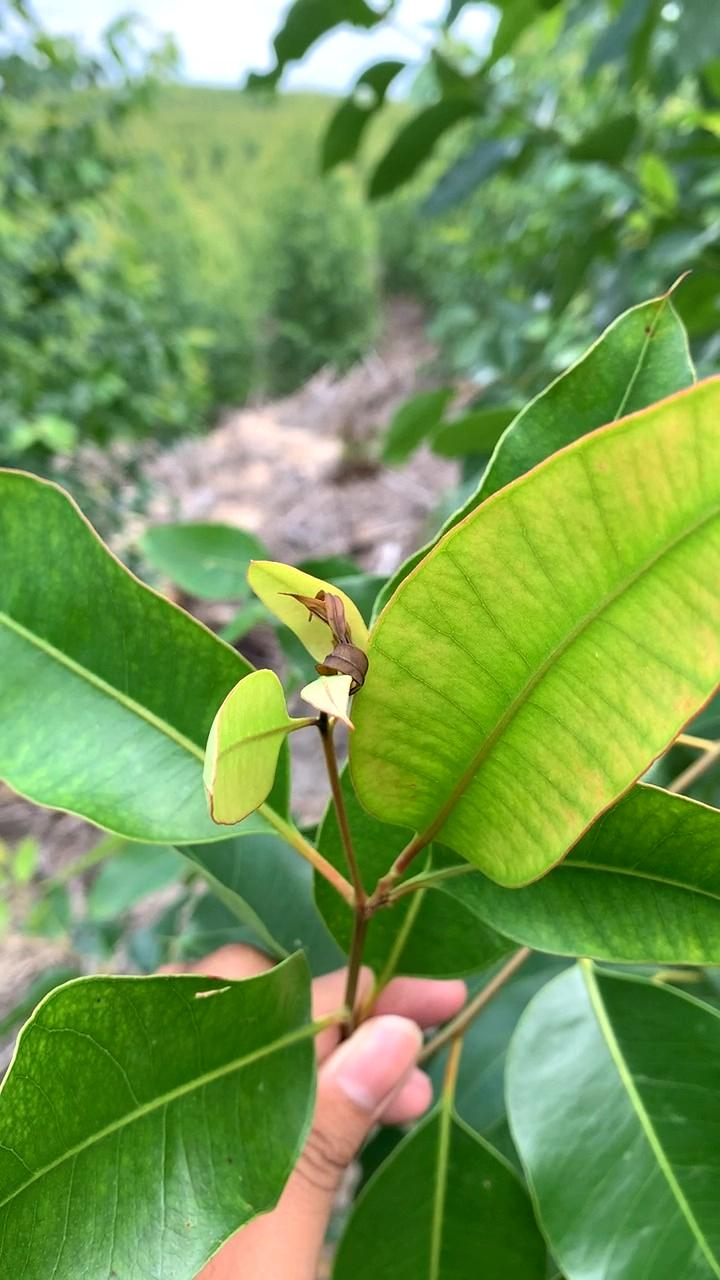Helopeltis-Withered Sprout: (292, 585, 373, 699)
